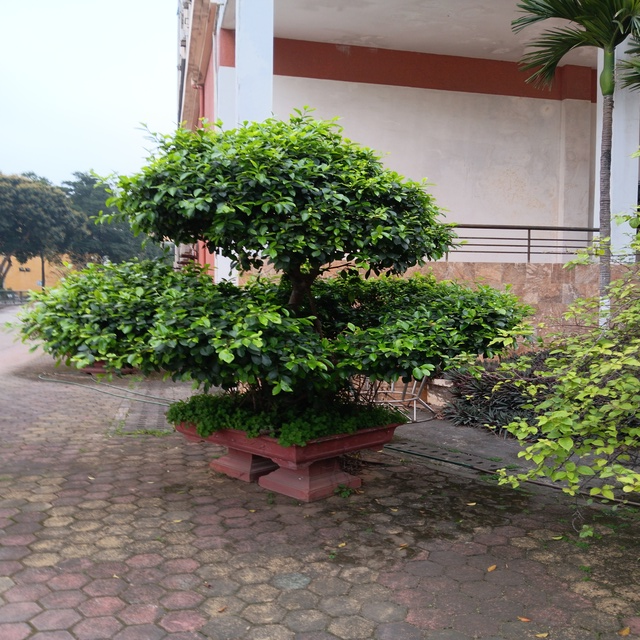caycanh: (38, 112, 538, 510)
